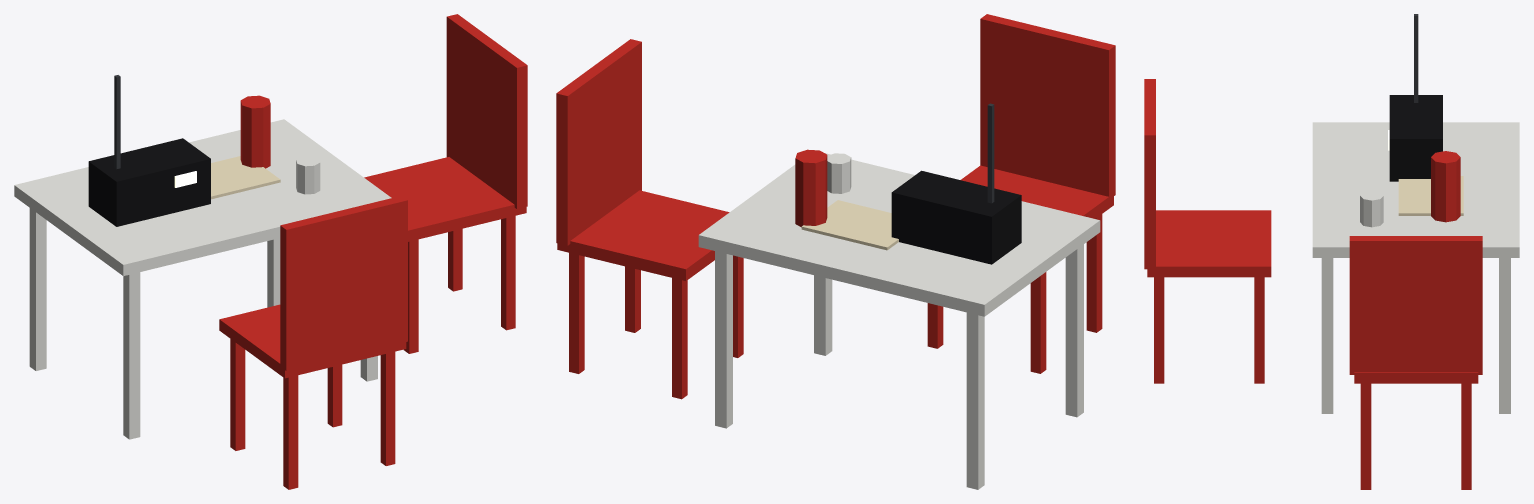
The model's file is Mesa con radio.fbx.
The picture shows the model from 3 angles, left to right: view 1: azimuth 30°, elevation 25°; view 2: azimuth 150°, elevation 25°; view 3: azimuth 270°, elevation 25°; orthographic projection. The views are drawn at different scales.
Visible parts, largest first — view 1: Mesa con radio; view 2: Mesa con radio; view 3: Mesa con radio.
Boxes of the visible parts, x1=… form: Mesa con radio: x1=14, y1=14, x2=527, y2=489; Mesa con radio: x1=556, y1=14, x2=1115, y2=489; Mesa con radio: x1=1144, y1=14, x2=1519, y2=489.
Size of the model in its own units: 1.58 by 1.13 by 1.27.
